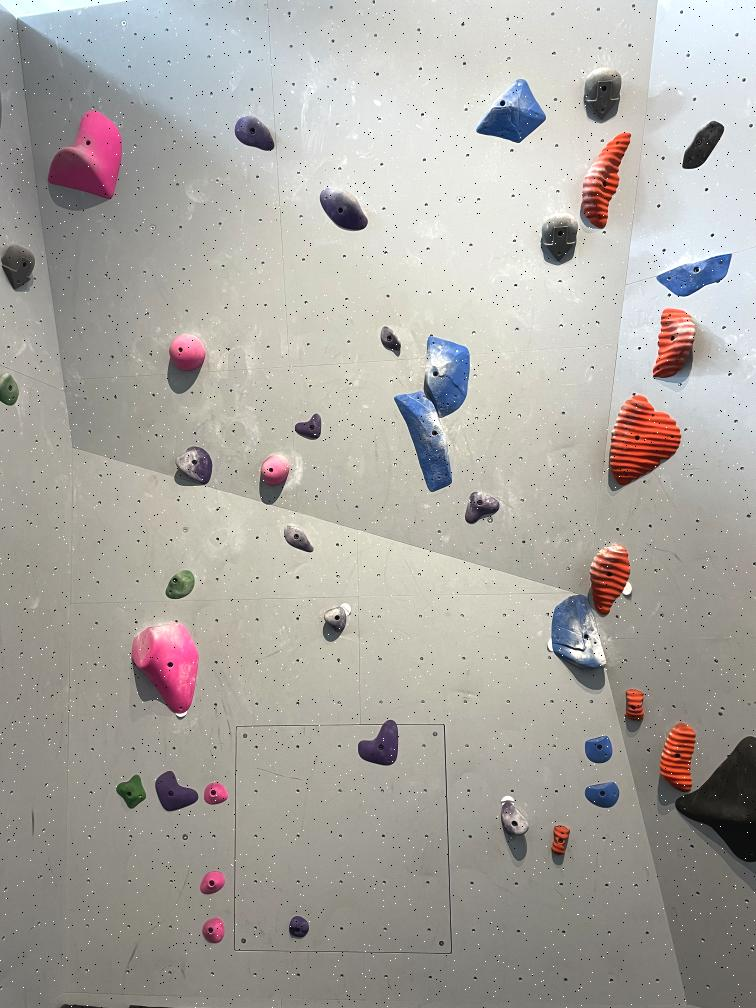Crimp: (162, 571, 199, 600), (283, 522, 317, 552), (586, 778, 620, 807), (586, 736, 616, 766), (378, 324, 401, 350)
Edges: (388, 385, 457, 496), (421, 332, 475, 420), (478, 79, 546, 143), (553, 601, 609, 674), (660, 251, 734, 296), (685, 121, 720, 166)
Foothold: (117, 781, 147, 807)
Jug: (608, 396, 678, 482), (582, 132, 634, 230), (591, 542, 630, 614), (659, 308, 696, 375), (317, 186, 369, 232), (584, 68, 626, 117), (661, 720, 690, 789), (540, 210, 578, 259), (173, 449, 223, 485), (3, 244, 36, 296), (236, 115, 278, 151), (498, 802, 528, 838), (325, 605, 349, 635)
Pinch: (552, 822, 570, 858), (624, 690, 646, 719), (286, 916, 311, 939)
Sloper: (47, 111, 122, 205), (133, 618, 196, 716), (359, 718, 399, 768), (155, 772, 199, 810), (169, 332, 208, 373), (463, 491, 501, 523), (257, 454, 293, 484), (201, 871, 228, 897), (204, 783, 231, 807), (297, 416, 326, 438), (202, 917, 224, 942)
